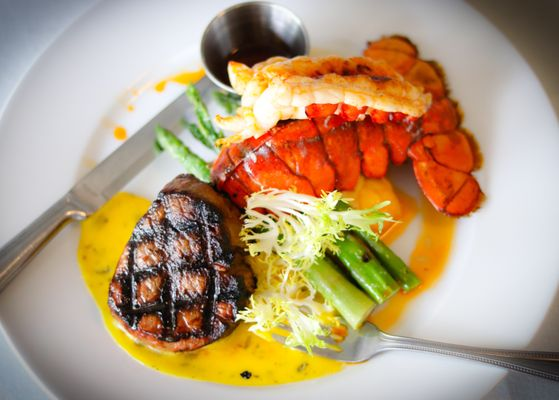sandwich: (0, 64, 213, 298)
